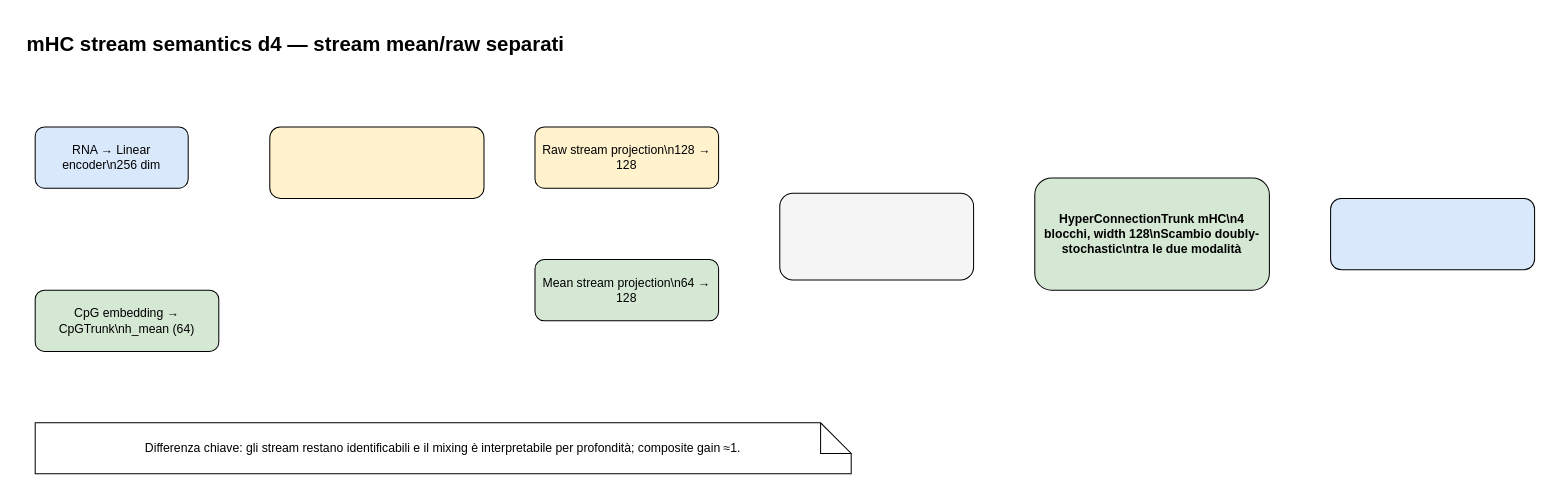
This 1552x492 diagram has some shape labels left out. Each missing label, with the centre of its shape:
"Mean stream + LayerNorm\nLinear → sigmoid → β" goes at (1432,233).
"RNA × CpG + concat\nRaw branch → h_raw (128)" goes at (376,162).
"Stack semantico\nstream 0 = h_mean\nstream 1 = h_raw" goes at (876,236).
